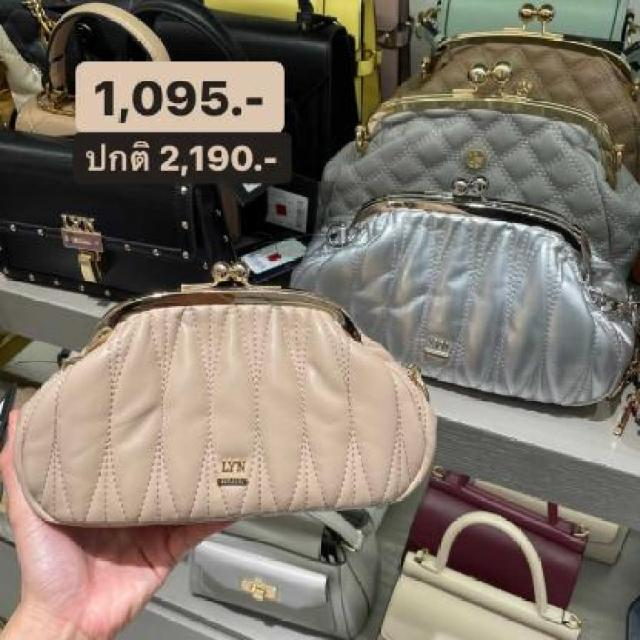Bag: (11, 244, 452, 544), (254, 171, 640, 458)
